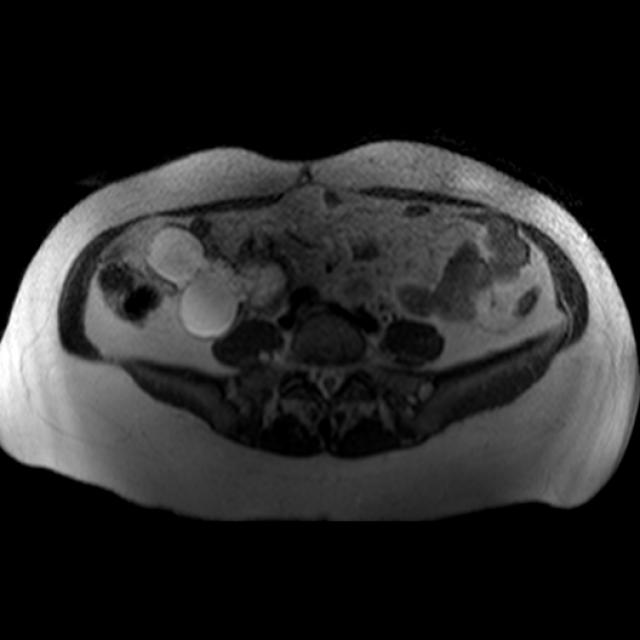sag: (145, 222, 291, 340)
